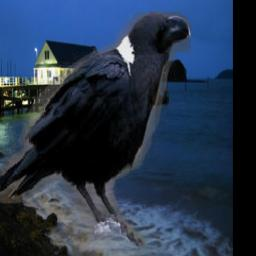Crow: (0, 13, 191, 250)
